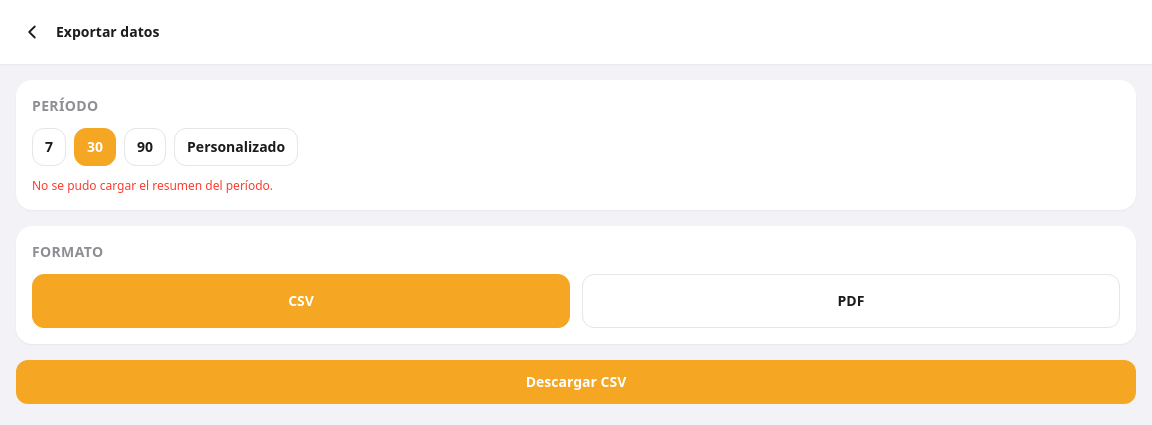
Test: ExportRoute summary load failure › clears the summary error when the range changes and loads fine
Check: the text "No se pudo cargar el resumen del período." is shown, box [32,177,273,194]
Click the button "7" at (49,147), box [32,128,66,166]
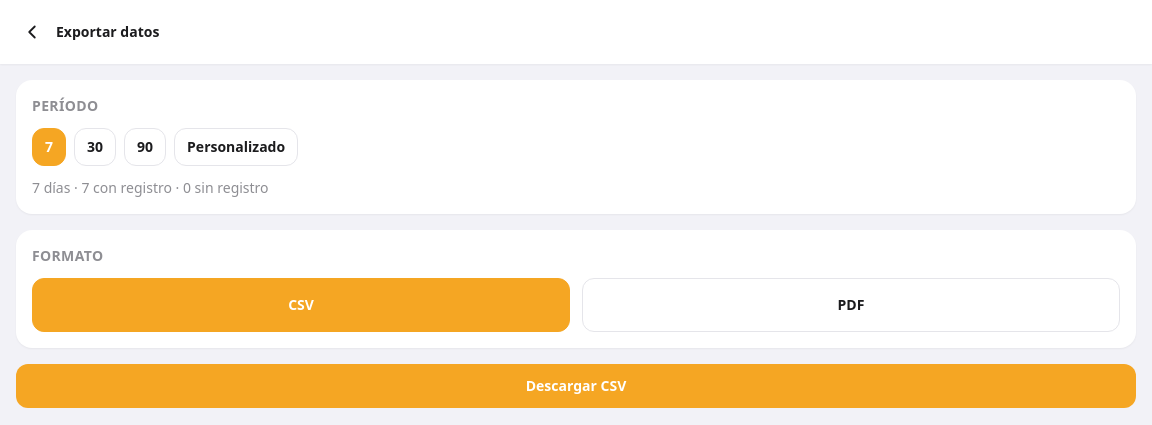
Check: the text "7 días · 7 con registro · 0 sin registro" is shown, box [32,178,269,197]
Check: the text "No se pudo cargar el resumen del período." is gone
